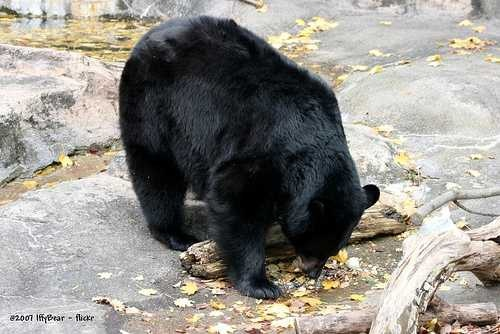bear: (262, 153, 390, 281)
